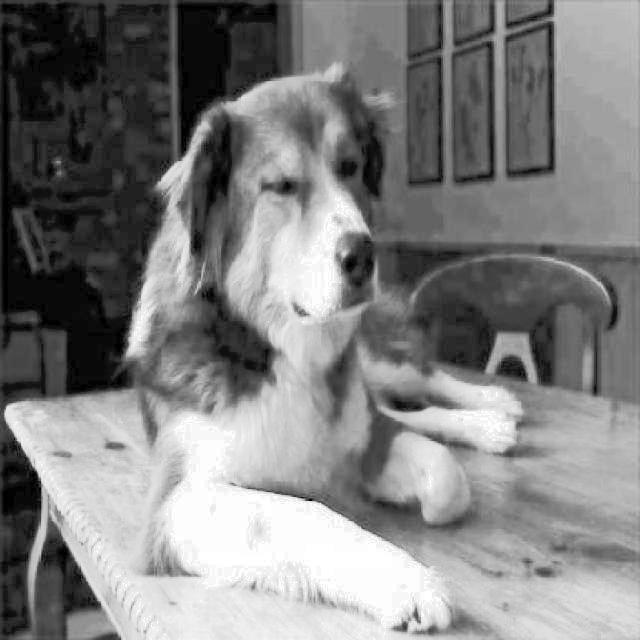Dog: (120, 57, 523, 640)
